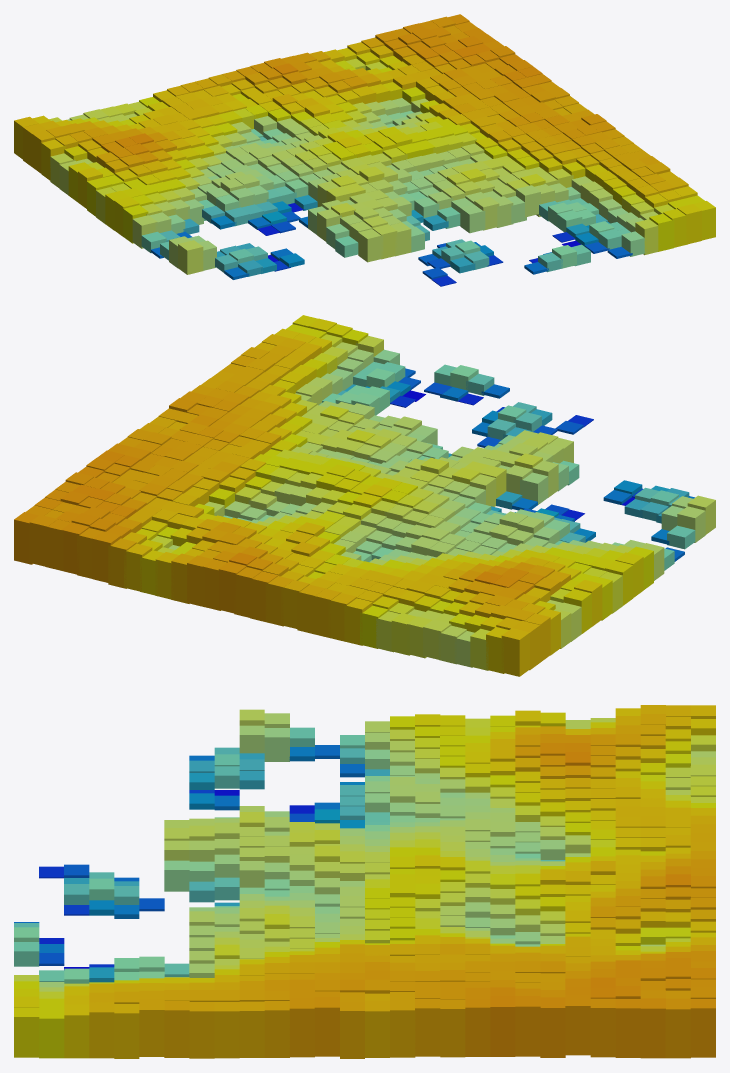
The model's file is population.glb.
3 views of the same model, one above another, from view 1: azimuth 30°, elevation 25°; view 2: azimuth 150°, elevation 25°; view 3: azimuth 270°, elevation 25° (orthographic). The views are drawn at different scales.
Parts seen in each view (by area): view 1: population; view 2: population; view 3: population.
Part boxes in pixels (box(x1,y1,x2,y2)): population: box(14, 14, 715, 286); population: box(14, 315, 715, 676); population: box(14, 705, 715, 1058).
Size of the model in its own units: 2815 by 243 by 2789.
